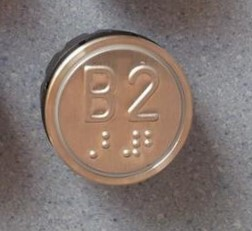Braille: (79, 131, 98, 159), (101, 131, 120, 159), (123, 130, 141, 157), (145, 130, 163, 157)
